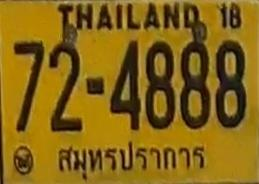2: (49, 42, 80, 131)
4: (110, 39, 140, 129)
7: (13, 40, 44, 130)
8: (214, 40, 246, 127), (144, 40, 174, 128), (180, 41, 210, 128)
SPK: (55, 139, 210, 181)
